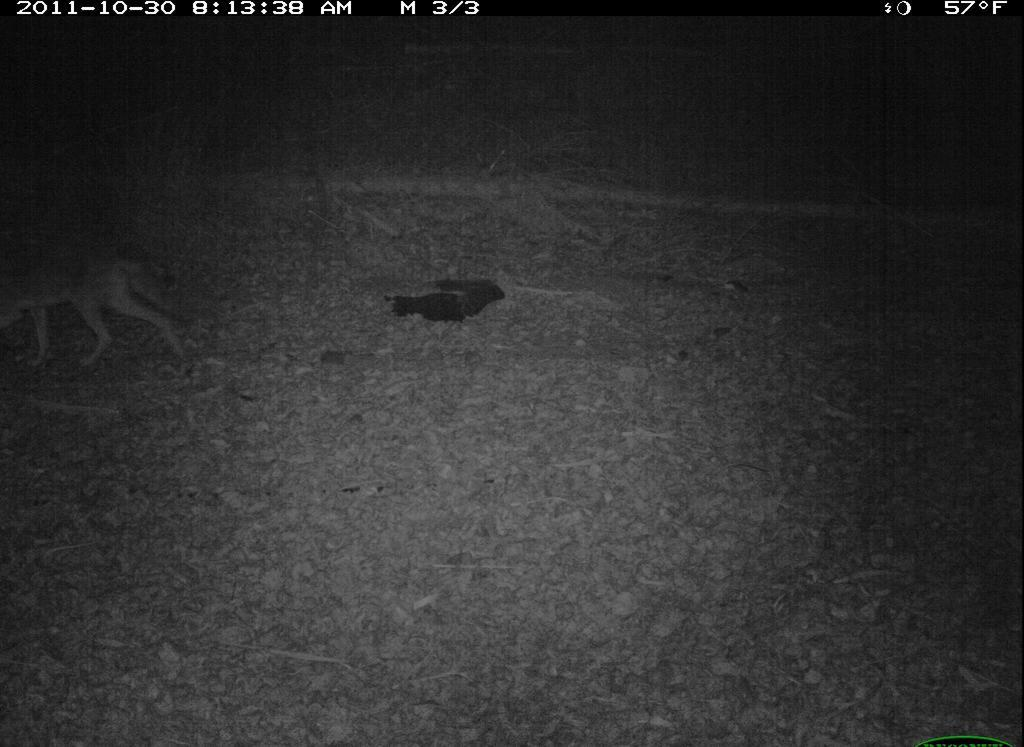coyote: (2, 239, 196, 381)
